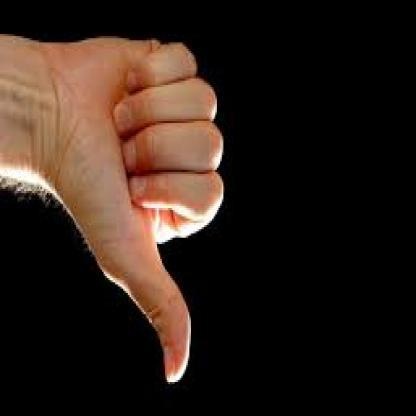thumb_down: (72, 32, 226, 388)
